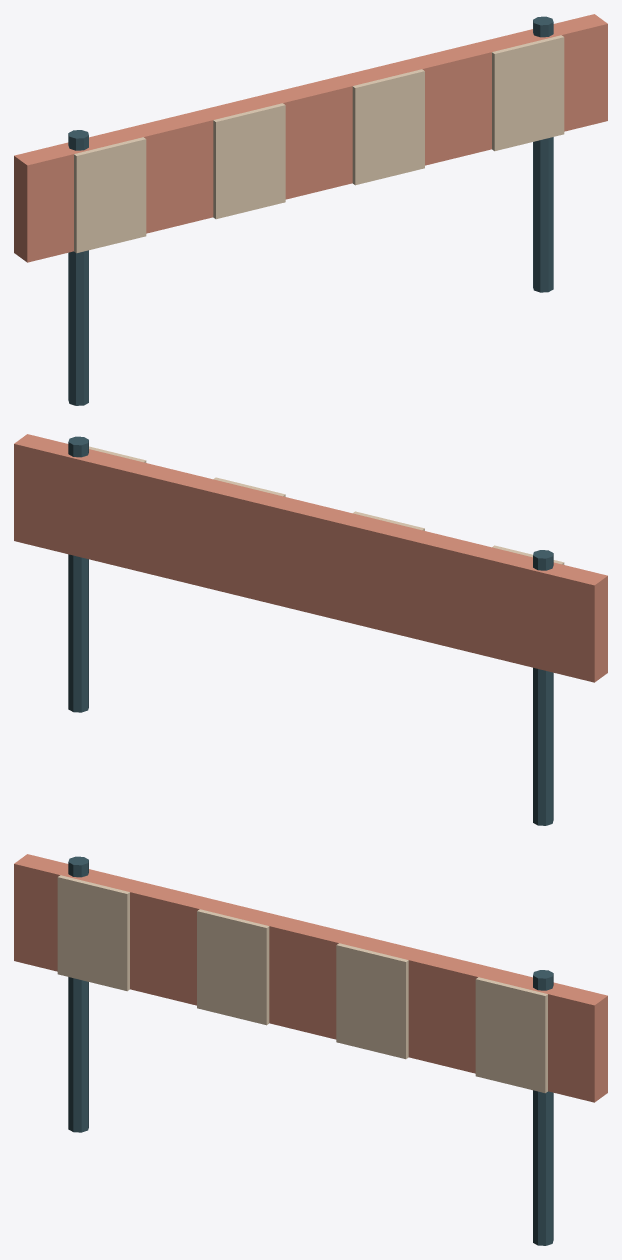
Rendered from constructionBarrier.obj.
The picture shows the model from 3 angles, top to bottom: view 1: azimuth 30°, elevation 25°; view 2: azimuth 150°, elevation 25°; view 3: azimuth 330°, elevation 25°; orthographic projection.
Parts seen in each view (by area): view 1: constructionBarrier; view 2: constructionBarrier; view 3: constructionBarrier.
Part boxes in pixels (x1,y1,x2,y2): constructionBarrier: (14, 14, 607, 405); constructionBarrier: (14, 434, 607, 825); constructionBarrier: (14, 854, 607, 1245).
Bounding box in the file's own units: 2.5 × 1.1 × 0.12.
